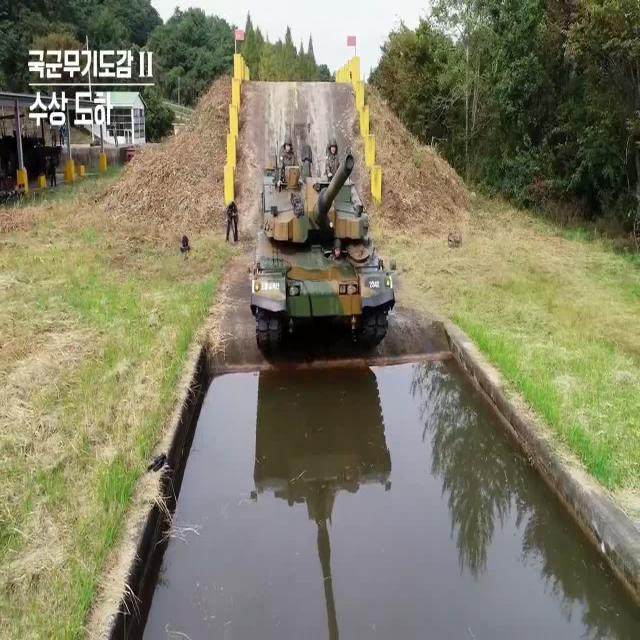korea tank: (245, 122, 398, 356)
